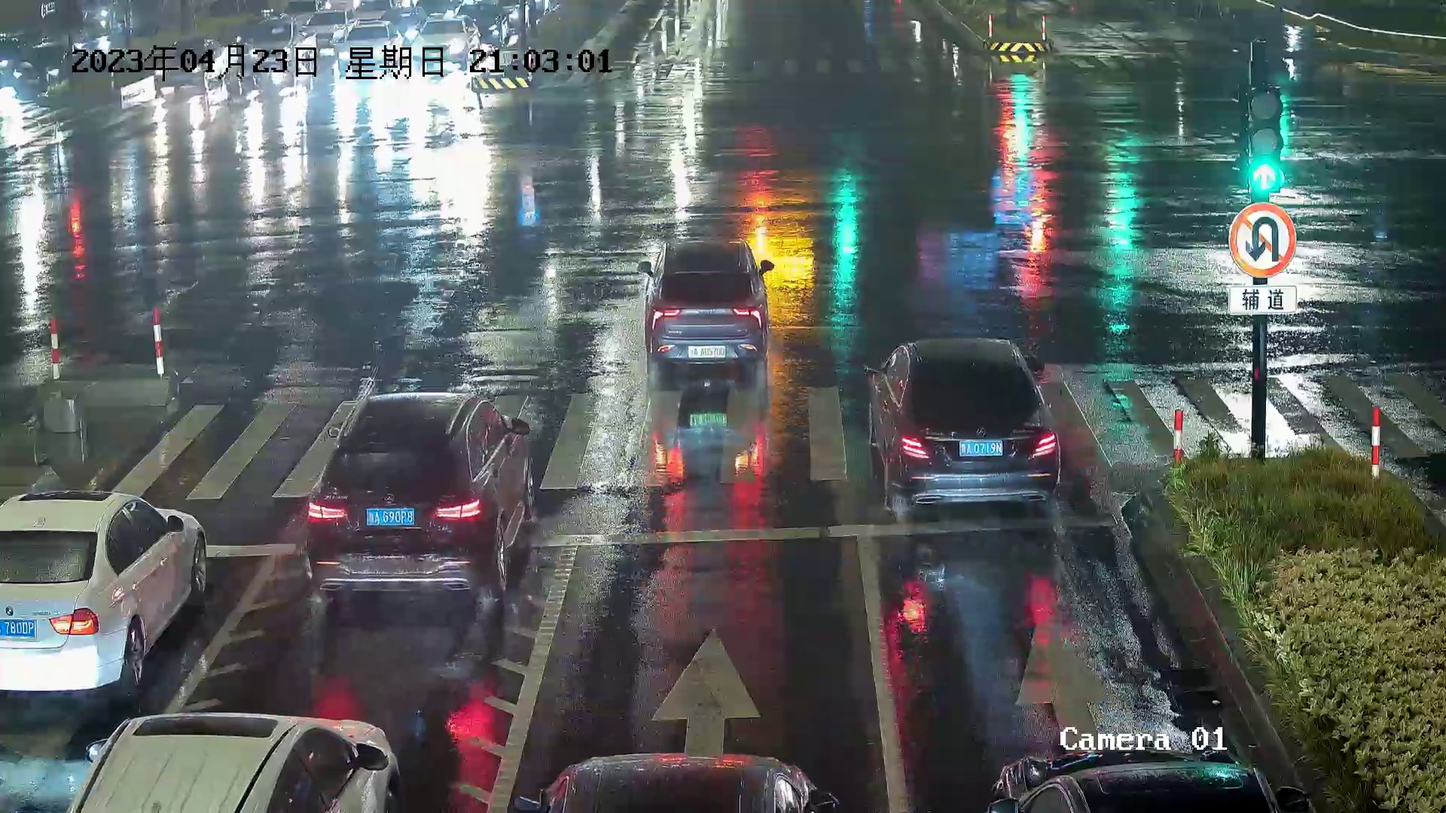vehicle: (295, 383, 542, 607), (0, 479, 210, 702), (859, 325, 1066, 518), (635, 232, 776, 376)
